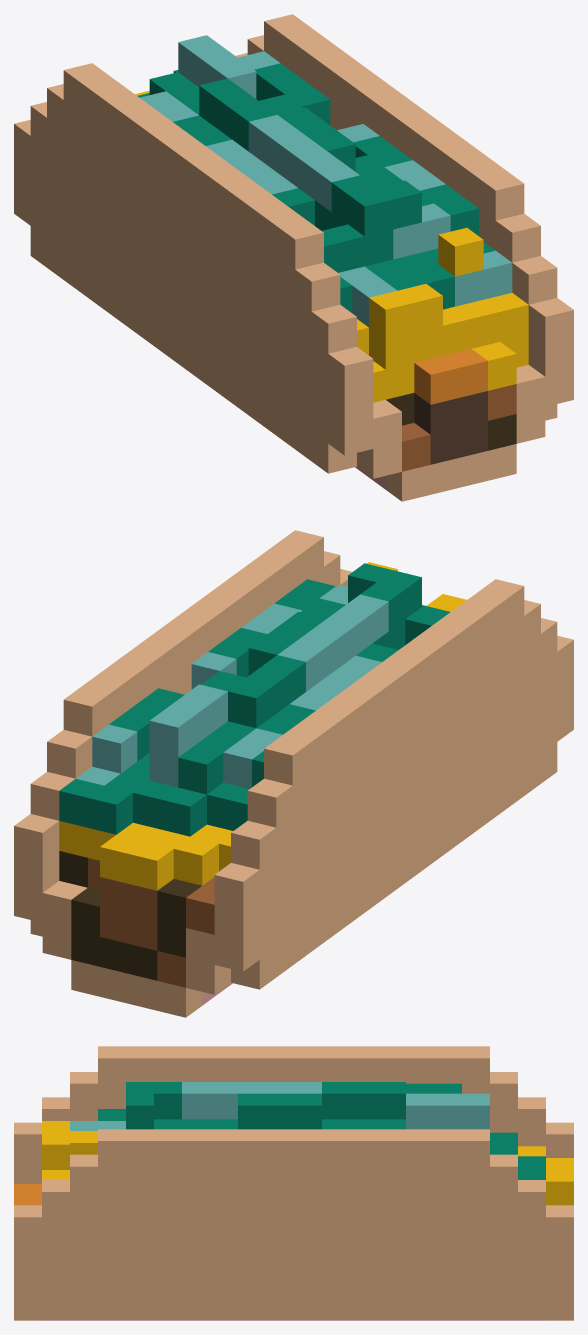
File: taco.obj
The picture shows the model from 3 angles, top to bottom: view 1: azimuth 30°, elevation 25°; view 2: azimuth 150°, elevation 25°; view 3: azimuth 270°, elevation 25°; orthographic projection. The views are drawn at different scales.
Bounding box in the file's own units: 8 × 8 × 20.
1 material, 1 textured.
